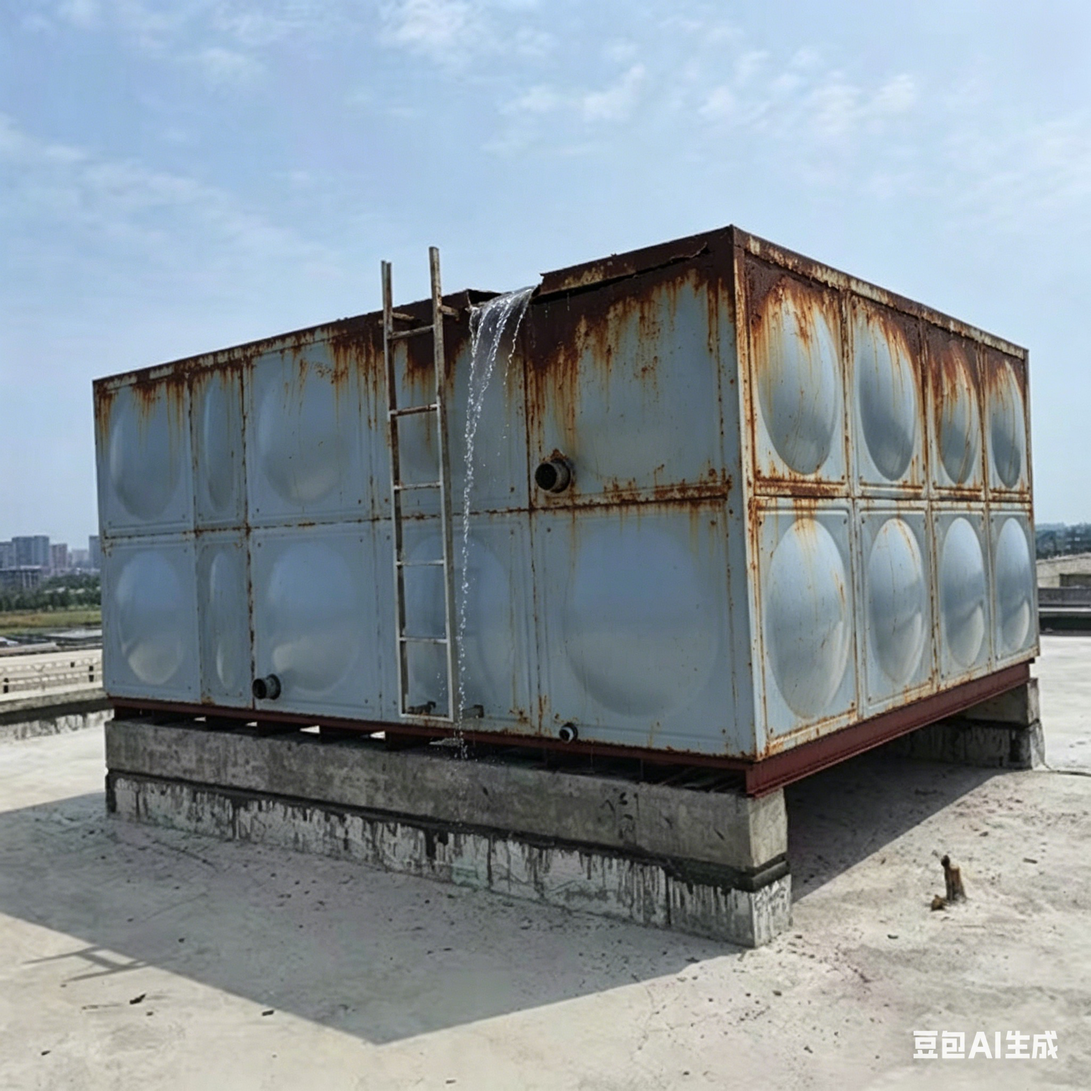Leakage: (455, 299, 535, 766)
